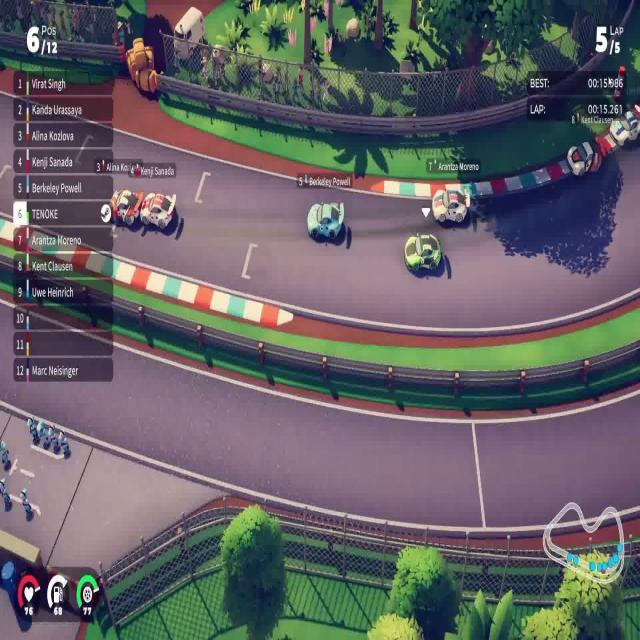car: (564, 136, 611, 176), (403, 231, 442, 274), (306, 199, 344, 242), (139, 190, 177, 231), (431, 187, 470, 226)
